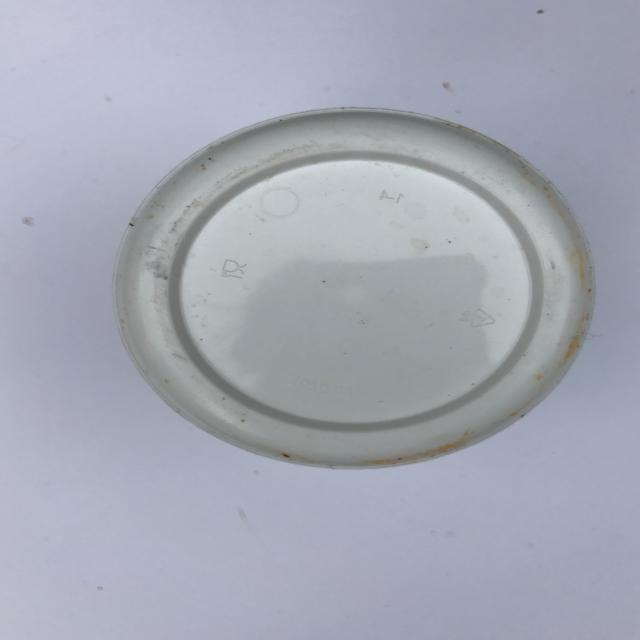plastic: (112, 106, 597, 470)
